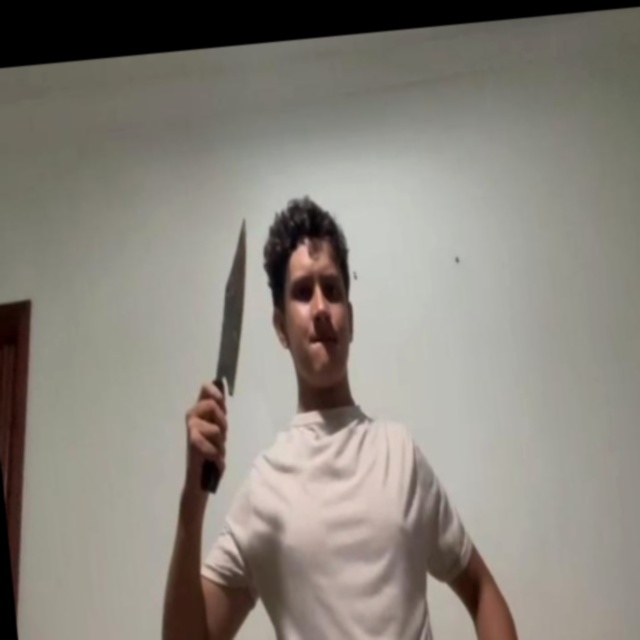Sharp-Object: (198, 217, 264, 394)
